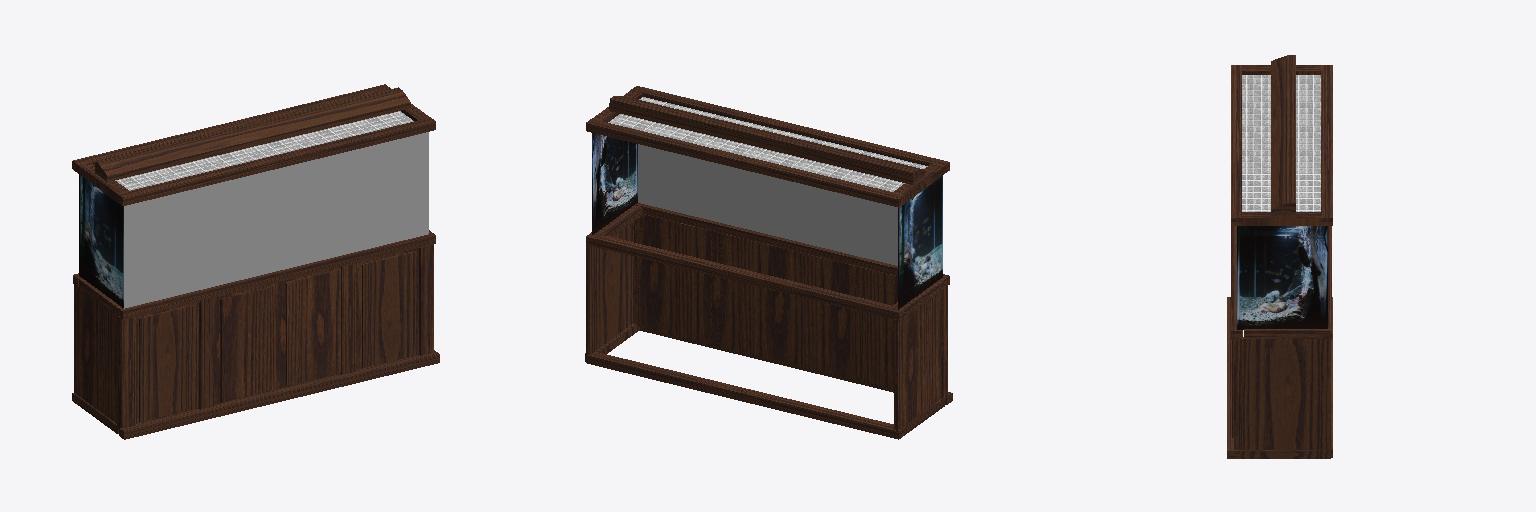
3 renders of one model, left to right at view 1: azimuth 30°, elevation 25°; view 2: azimuth 150°, elevation 25°; view 3: azimuth 270°, elevation 25°, orthographic.
Parts seen in each view (by area): view 1: fishtank; view 2: fishtank; view 3: fishtank.
Boxes of the visible parts, box(x1,y1,x2,y2) form: fishtank: box(72, 84, 439, 439); fishtank: box(585, 86, 952, 439); fishtank: box(1227, 55, 1332, 458).
Bounding box in the file's own units: 67.93 × 51.74 × 19.68.
7 materials, 6 textured.